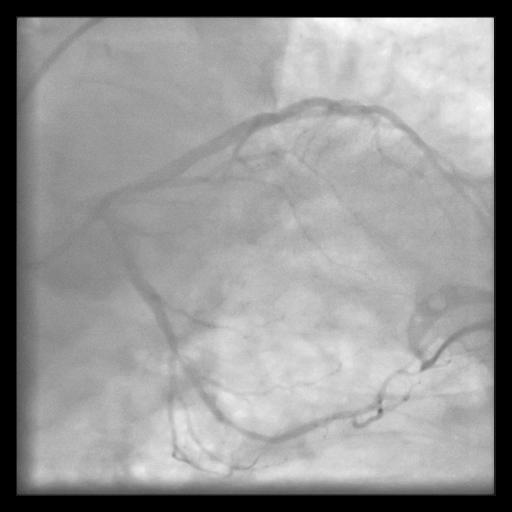Stenosis: (170, 341, 206, 390)
